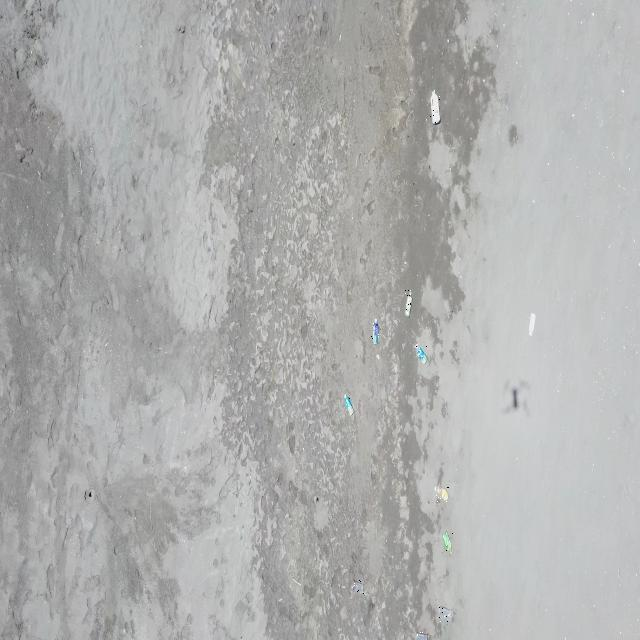plastic-bottle: (430, 90, 440, 126), (415, 344, 427, 365), (371, 318, 380, 345), (343, 394, 354, 415), (435, 487, 449, 503), (443, 532, 453, 554), (530, 313, 538, 337), (405, 290, 412, 317)
takeaway-cup: (439, 607, 452, 622), (352, 580, 364, 595), (416, 631, 429, 640)
